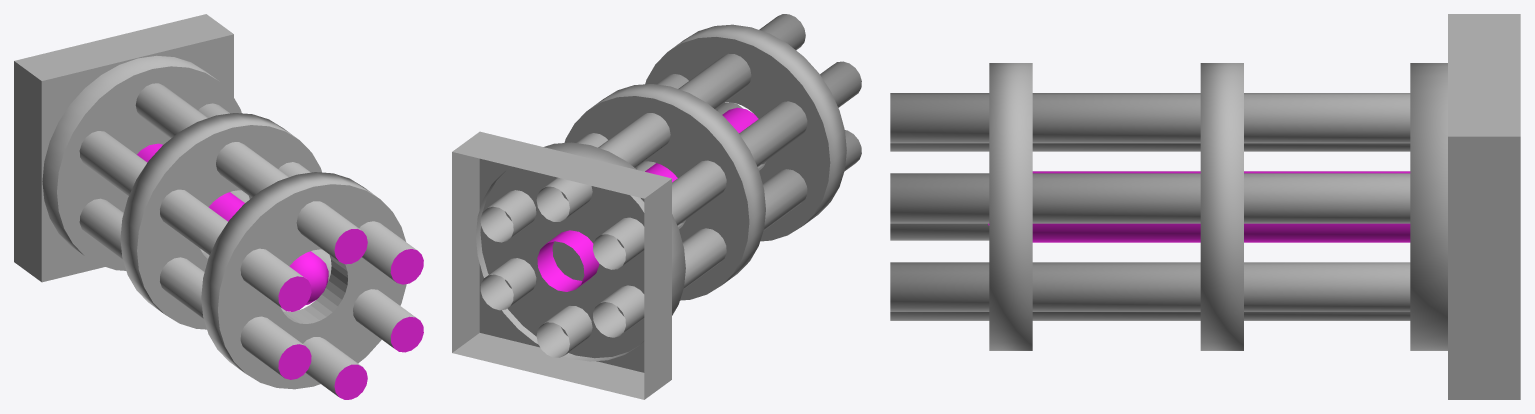
File: GatlinGun.fbx
The picture shows the model from 3 angles, left to right: view 1: azimuth 30°, elevation 25°; view 2: azimuth 150°, elevation 25°; view 3: azimuth 270°, elevation 25°; orthographic projection. The views are drawn at different scales.
Visible parts, largest first — view 1: Cylinder.007, BasePlate, Cylinder.008, Cylinder, Cylinder.006, Cylinder.001, Cylinder.004, Cylinder.005, Cylinder.003, Cylinder.002, Cylinder.009; view 2: BasePlate, Cylinder.007, Cylinder.008, Cylinder.006, Cylinder.001, Cylinder.004, Cylinder, Cylinder.009, Cylinder.003, Cylinder.005, Cylinder.002; view 3: BasePlate, Cylinder.003, Cylinder.001, Cylinder.005, Cylinder.008, Cylinder.007, Cylinder, Cylinder.009, Cylinder.002, Cylinder.006, Cylinder.004.
Part boxes in pixels (x1,y1,x2,y2): Cylinder.007: (201,172,406,389); BasePlate: (14,14,233,282); Cylinder.008: (120,113,321,329); Cylinder: (42,55,241,270); Cylinder.006: (79,131,311,311); Cylinder.001: (135,83,367,264); Cylinder.004: (79,198,311,379); Cylinder.005: (230,190,423,352); Cylinder.003: (198,103,423,284); Cylinder.002: (200,248,367,399); Cylinder.009: (137,143,328,304); BasePlate: (452,131,671,399); Cylinder.007: (645,24,846,241); Cylinder.008: (564,84,765,300); Cylinder.006: (593,61,861,269); Cylinder.001: (536,14,805,221); Cylinder.004: (593,130,861,337); Cylinder: (476,142,685,361); Cylinder.009: (537,107,758,291); Cylinder.003: (480,74,688,242); Cylinder.005: (480,102,742,310); Cylinder.002: (536,160,766,357); BasePlate: (1448,14,1520,399); Cylinder.003: (890,173,1410,223); Cylinder.001: (890,93,1410,143); Cylinder.005: (890,262,1410,311); Cylinder.008: (1200,63,1243,350); Cylinder.007: (989,63,1032,350); Cylinder: (1410,63,1447,350); Cylinder.009: (988,171,1410,242); Cylinder.002: (890,312,1410,320); Cylinder.006: (890,143,1410,151); Cylinder.004: (890,223,989,240).
Size of the model in its own units: 35.58 by 35.58 by 77.2.
